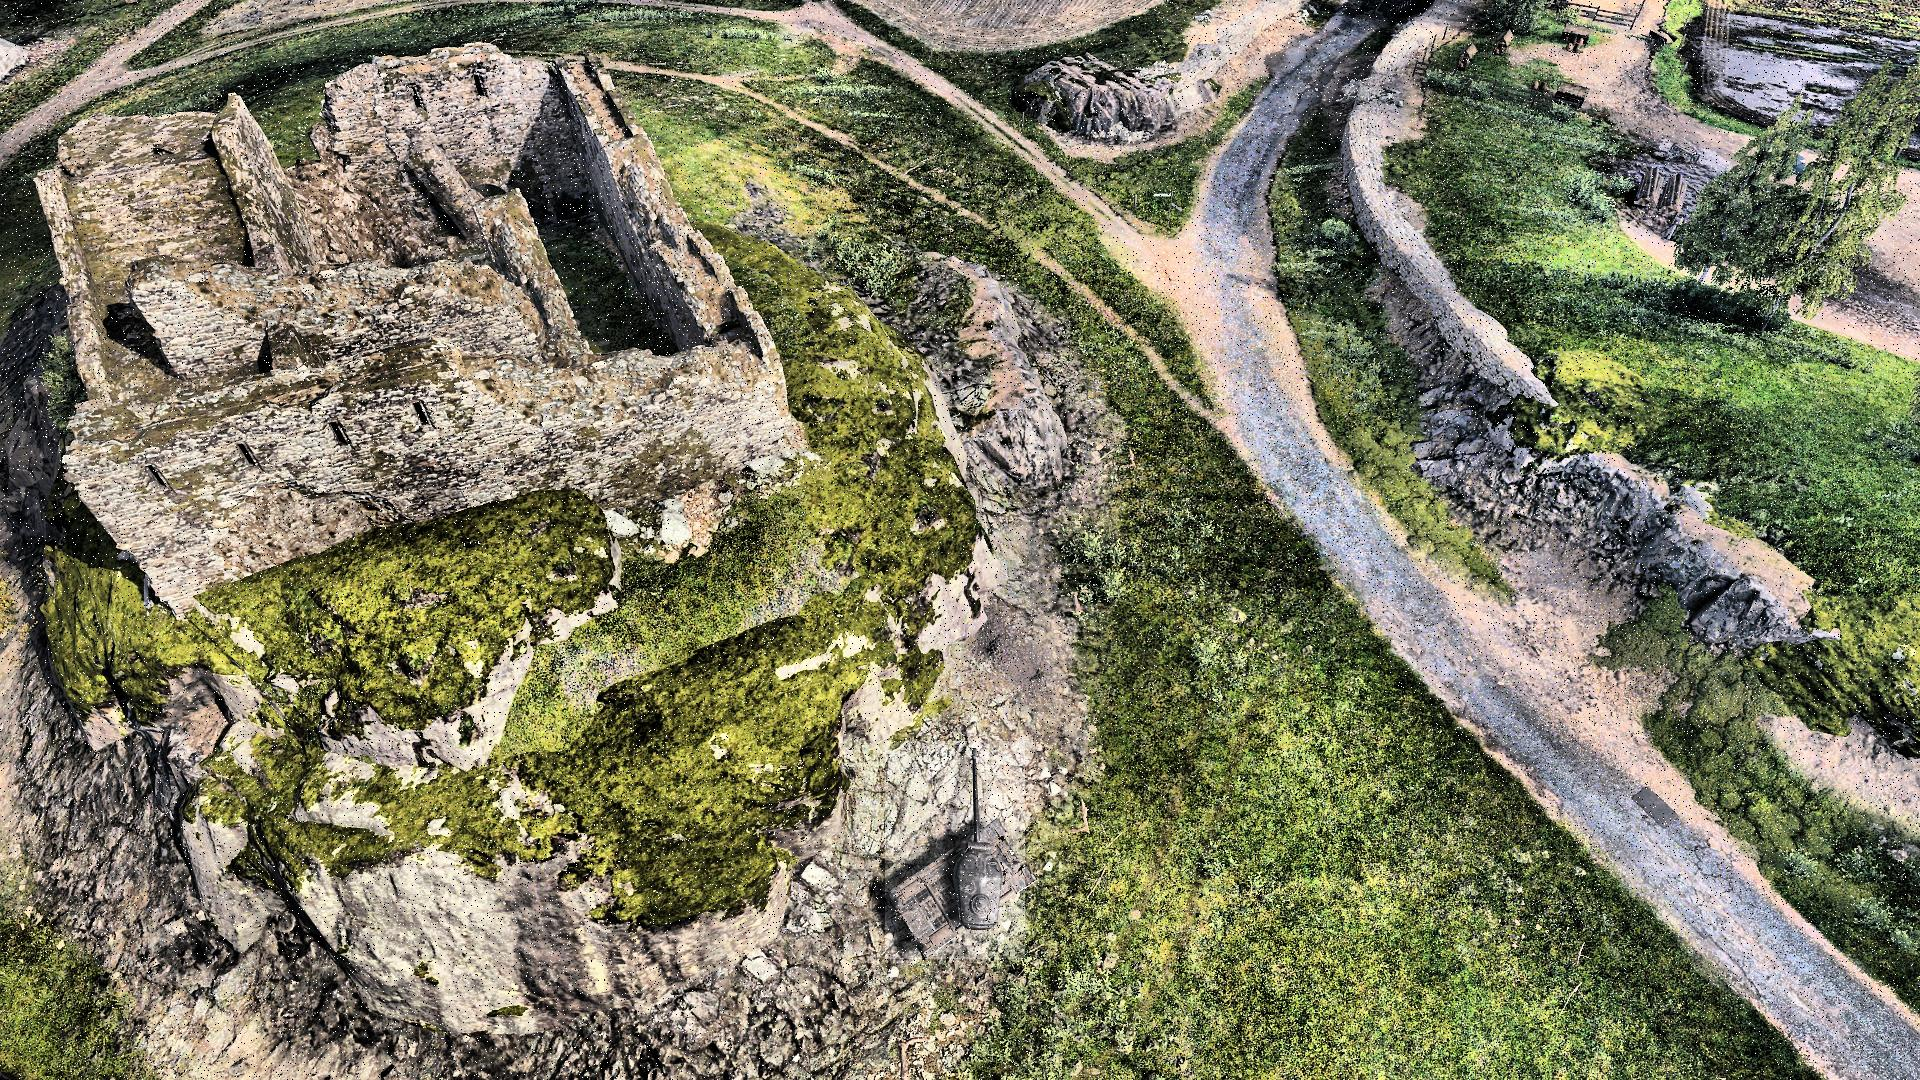military-vehicle: (885, 741, 1025, 960)
